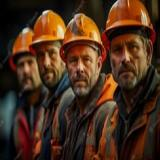Helmet: (101, 0, 156, 52), (60, 13, 106, 64), (29, 10, 68, 56), (9, 27, 39, 73)
